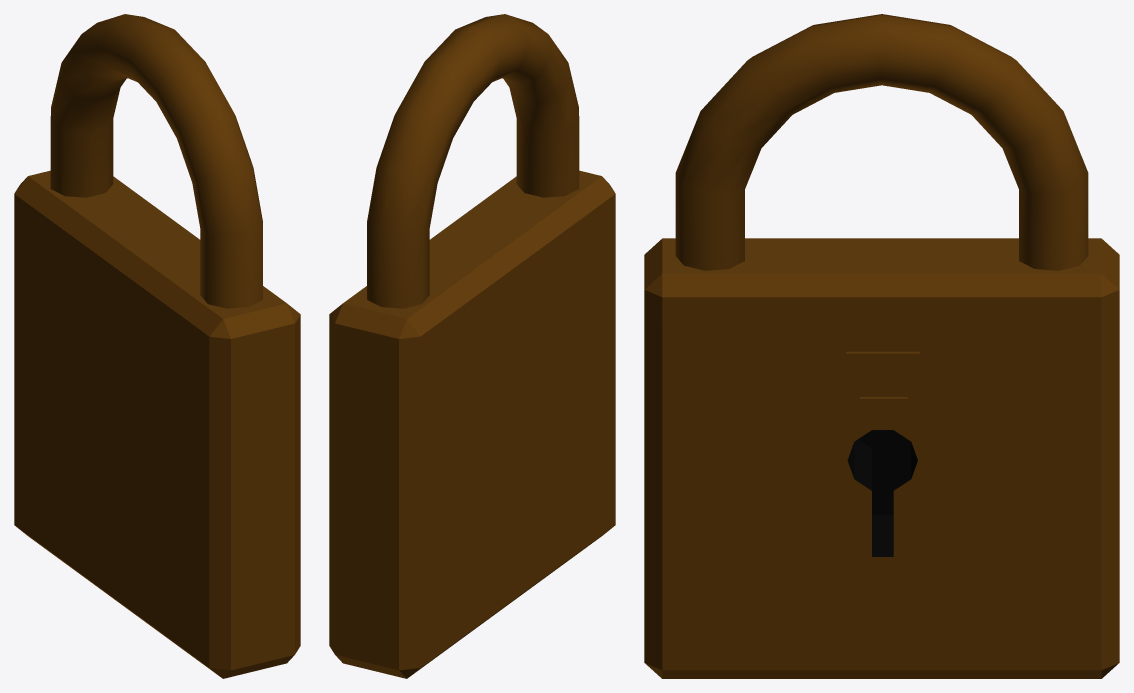
The model's file is Drawer key lock(R).fbx.
The picture shows the model from 3 angles, left to right: view 1: azimuth 30°, elevation 25°; view 2: azimuth 150°, elevation 25°; view 3: azimuth 270°, elevation 25°; orthographic projection. The views are drawn at different scales.
Visible parts, largest first — view 1: Box002, Torus001; view 2: Box002, Torus001; view 3: Box002 (×2), Torus001.
Boxes of the visible parts, x1,y1,x2,y2 form: Box002: (14,170,300,678); Torus001: (50,14,262,308); Box002: (329,170,615,678); Torus001: (367,14,579,308); Box002 (×2): (644,238,1119,678); Torus001: (675,14,1088,270).
Bounding box in the file's own units: 1.04 × 4 × 5.99.
